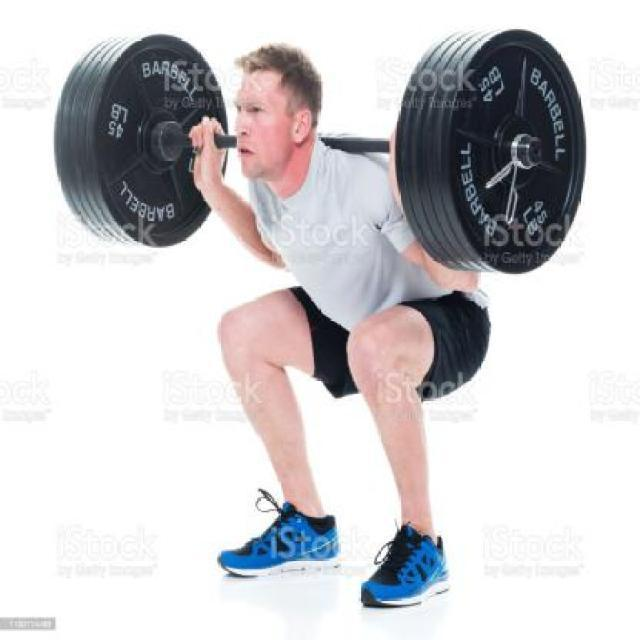barbell: (393, 19, 594, 281)
